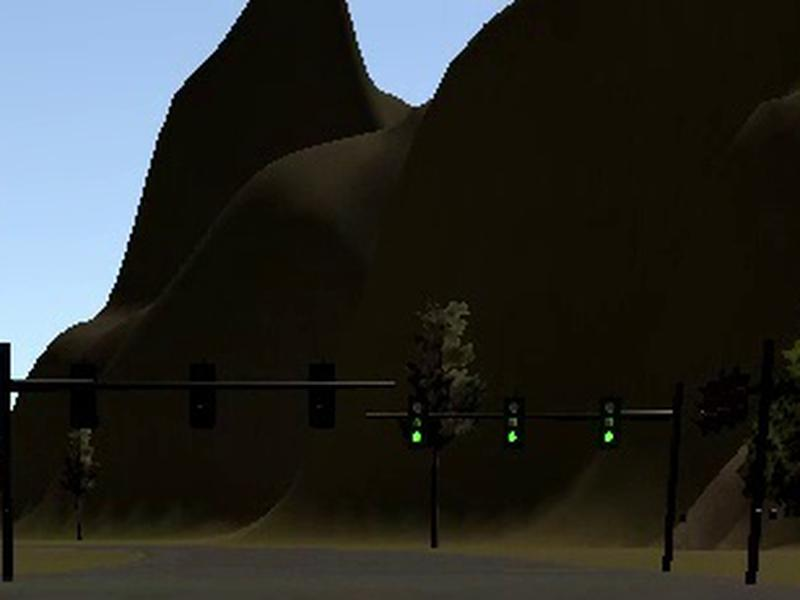Green: (501, 397, 526, 447), (599, 396, 622, 448), (407, 394, 429, 448)
